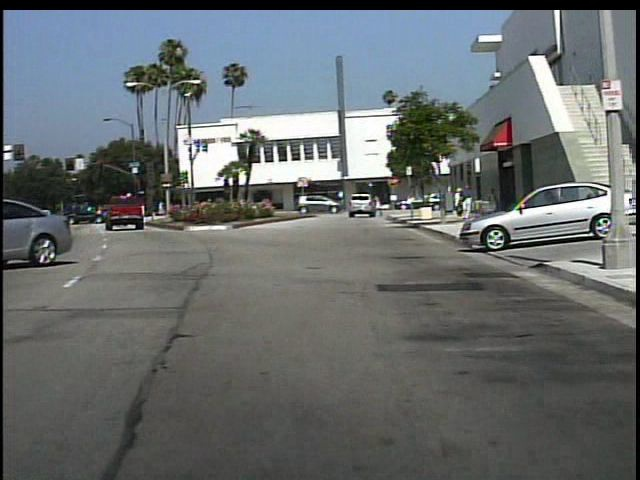person: (461, 184, 476, 223), (484, 185, 500, 218), (453, 186, 465, 219), (376, 192, 381, 221)
